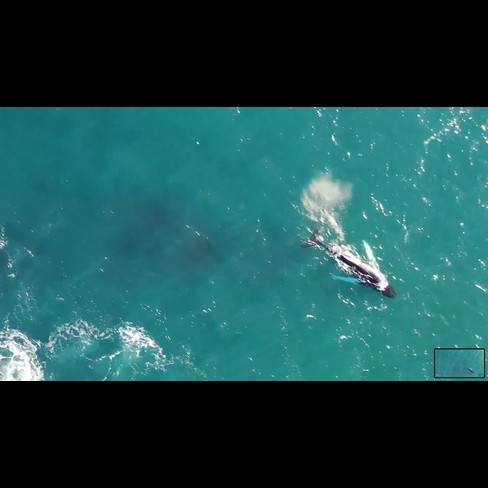hump: (296, 217, 400, 305)
